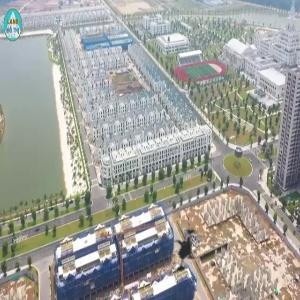drone: (146, 206, 235, 295)
